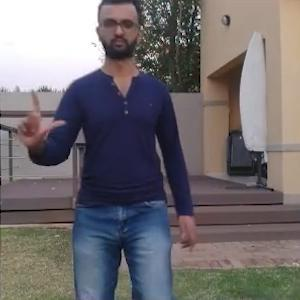land_hand: (9, 85, 70, 154)
